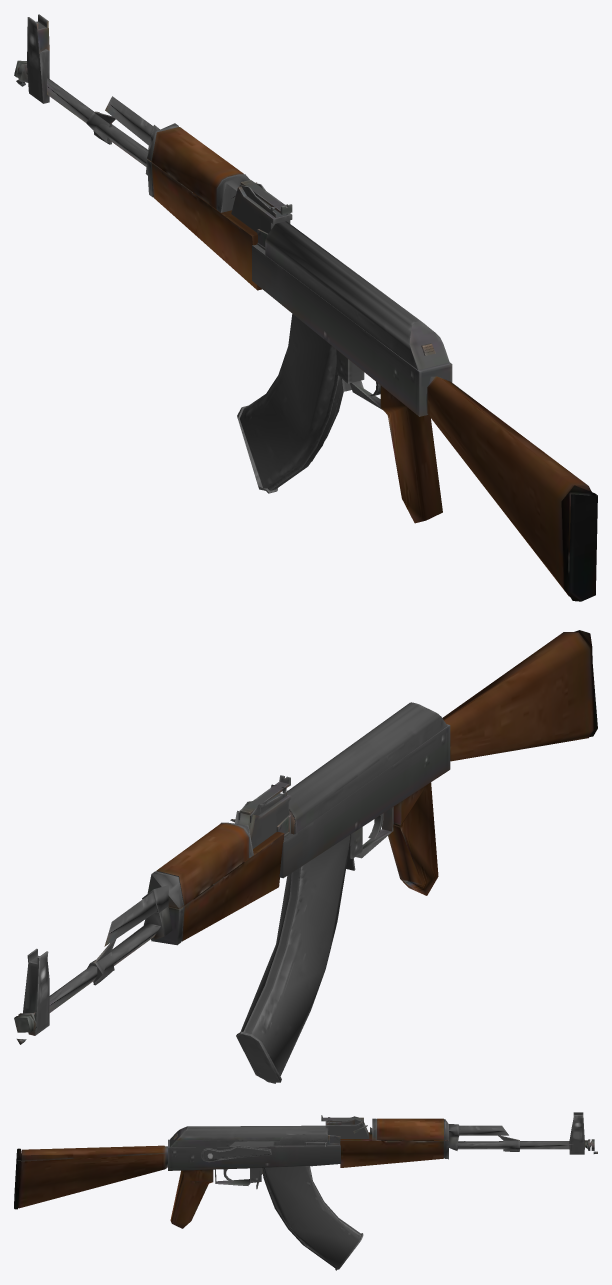
Rendered from 009_AK_47_cc0_card.glb.
3 views of the same model, one above another, from view 1: azimuth 30°, elevation 25°; view 2: azimuth 150°, elevation 25°; view 3: azimuth 270°, elevation 25° (orthographic). The views are drawn at different scales.
Parts seen in each view (by area): view 1: AK_47, Magazine; view 2: AK_47, Magazine; view 3: AK_47, Magazine, Selector_Switch, Ejection_Port.
Part boxes in pixels (x1,y1,x2,y2): AK_47: (14, 14, 597, 601); Magazine: (237, 314, 343, 493); AK_47: (14, 630, 597, 1044); Magazine: (236, 835, 350, 1083); AK_47: (14, 1112, 597, 1228); Magazine: (262, 1166, 363, 1270); Selector_Switch: (201, 1145, 271, 1162); Ejection_Port: (273, 1134, 327, 1148).
Size of the model in its own units: 0.0396 by 0.2582 by 0.8765.
Materials: 1 (1 with a texture image).
